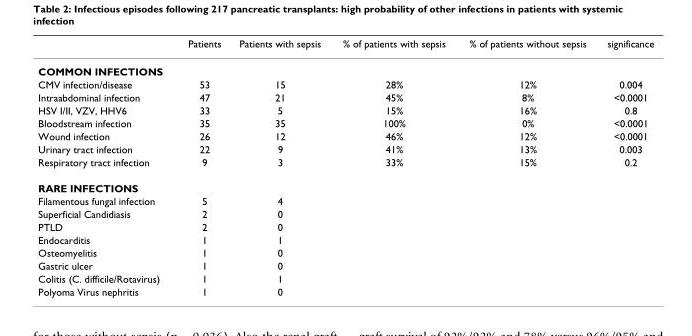table: (37, 37, 653, 297)
table column: (456, 37, 596, 297), (37, 37, 173, 297), (331, 37, 456, 297), (229, 37, 331, 297), (596, 37, 653, 297), (173, 37, 229, 297)
table column header: (37, 37, 653, 56)
table projected row header: (37, 56, 653, 77), (37, 174, 653, 194)
table row: (37, 56, 653, 77), (37, 174, 653, 194), (37, 37, 653, 56), (37, 155, 653, 174), (37, 77, 653, 90), (37, 90, 653, 103), (37, 103, 653, 116), (37, 116, 653, 129), (37, 129, 653, 142), (37, 142, 653, 155), (37, 206, 653, 219), (37, 219, 653, 232), (37, 232, 653, 245), (37, 245, 653, 258), (37, 258, 653, 271), (37, 271, 653, 284), (37, 284, 653, 297), (37, 194, 653, 206)
